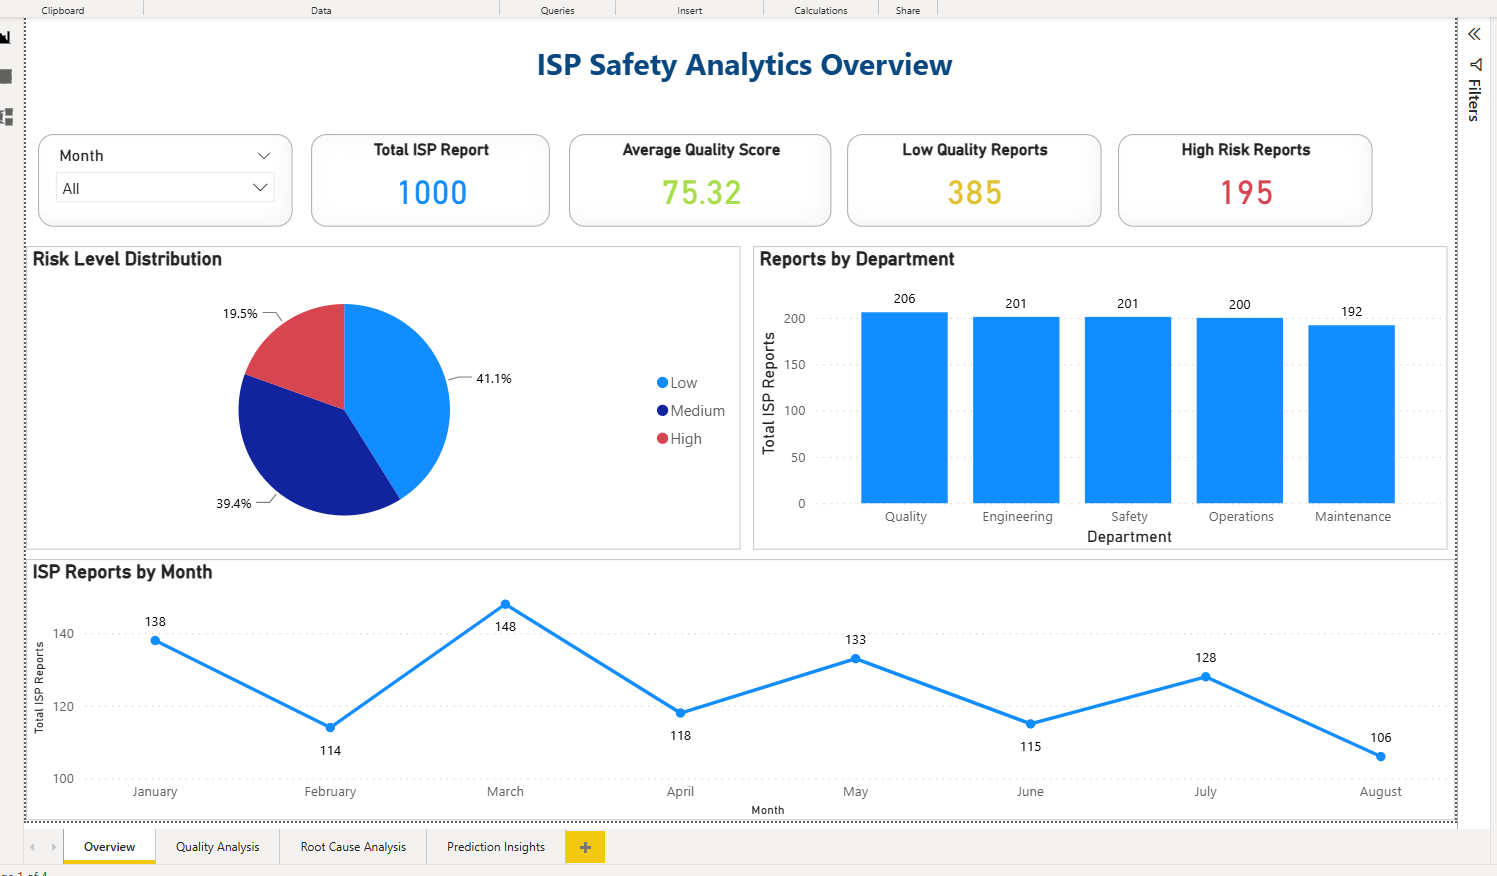

This screenshot's page, from the dashboard's own definition file:
{"tool":"powerbi","page":{"name":"Overview","canvas":[1280,720],"ordinal":0},"visuals":[{"type":"textbox","box":[452.3,17.5,396.8,58.4],"z":0},{"type":"slicer","fields":{"Values":["cleaned_isp_safety_data.Date.Variation.Date Hierarchy.Month"]},"box":[10.7,105,227.6,82.7],"z":1000},{"type":"card","title":"Total ISP Report","fields":{"Values":["cleaned_isp_safety_data.Total ISP Reports"]},"box":[254.8,105,214,82.7],"z":2000},{"type":"card","title":"Average Quality Score","fields":{"Values":["cleaned_isp_safety_data.Average Quality Score"]},"box":[486.3,105,235.4,82.7],"z":3000},{"type":"card","title":"Low Quality Reports","fields":{"Values":["cleaned_isp_safety_data.Low Quality Reports"]},"box":[735.3,105,227.6,82.7],"z":4000},{"type":"card","title":"High Risk Reports","fields":{"Values":["cleaned_isp_safety_data.High Risk Reports"]},"box":[977.5,105,227.6,82.7],"z":5000},{"type":"pieChart","title":"Risk Level Distribution","fields":{"Y":["cleaned_isp_safety_data.Total ISP Reports"],"Category":["cleaned_isp_safety_data.Risk_Level"]},"box":[0,205.2,640,272.3],"z":6000},{"type":"clusteredColumnChart","title":"Reports by Department","fields":{"Y":["cleaned_isp_safety_data.Total ISP Reports"],"Category":["cleaned_isp_safety_data.Department"]},"box":[650.7,205.2,621.5,272.3],"z":7000},{"type":"lineChart","title":"ISP Reports by Month","fields":{"Y":["cleaned_isp_safety_data.Total ISP Reports"],"Category":["cleaned_isp_safety_data.Date.Variation.Date Hierarchy.Month"]},"box":[0,485.3,1280,234.4],"z":8000}]}

Visuals, with their boxes on the page's 1280x720 design canvas (x1, y1, x2, y2). These are canvas units, not pixel positions in the 1497x876 screenshot, which may show the page scaled, cropped or inside an application window:
textbox: <bbox>452, 18, 849, 76</bbox>
slicer - cleaned_isp_safety_data.Date.Variation.Date Hierarchy.Month: <bbox>11, 105, 238, 188</bbox>
"Total ISP Report" card: <bbox>255, 105, 469, 188</bbox>
"Average Quality Score" card: <bbox>486, 105, 722, 188</bbox>
"Low Quality Reports" card: <bbox>735, 105, 963, 188</bbox>
"High Risk Reports" card: <bbox>978, 105, 1205, 188</bbox>
"Risk Level Distribution" pieChart: <bbox>0, 205, 640, 478</bbox>
"Reports by Department" clusteredColumnChart: <bbox>651, 205, 1272, 478</bbox>
"ISP Reports by Month" lineChart: <bbox>0, 485, 1280, 720</bbox>
